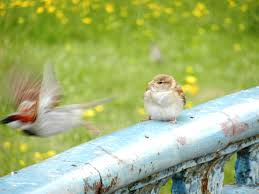hsparrow: (142, 73, 194, 129)
